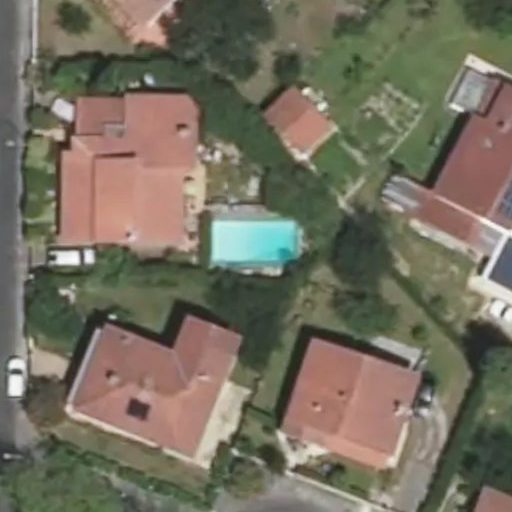pool: (213, 221, 298, 262)
